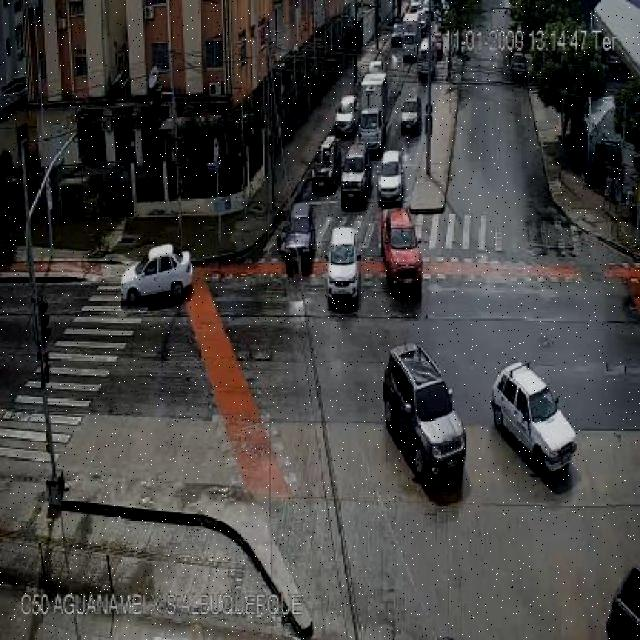Car: (383, 343, 466, 482), (490, 362, 578, 475), (120, 243, 192, 303), (380, 206, 422, 293), (324, 226, 361, 307), (279, 199, 317, 275), (340, 145, 371, 210), (312, 136, 343, 194), (377, 150, 405, 204), (334, 95, 359, 136), (417, 41, 436, 80), (400, 99, 421, 134), (509, 53, 528, 82), (391, 21, 405, 47)
Truck: (359, 71, 392, 154), (399, 11, 422, 59)
